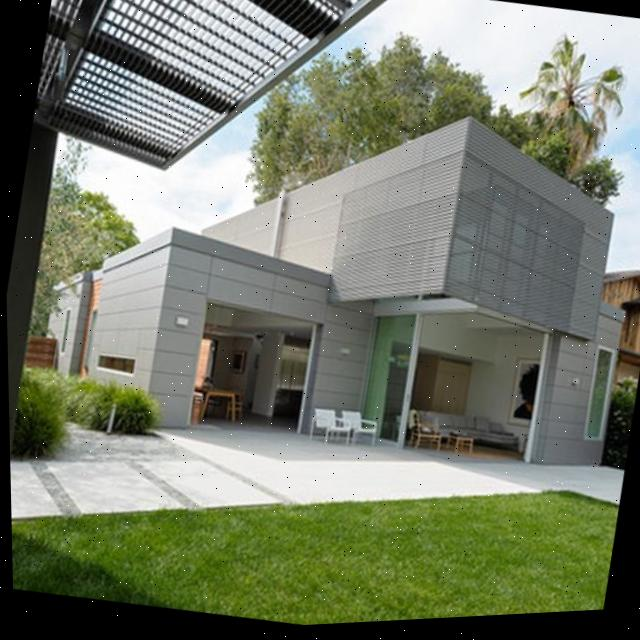building: (31, 38, 640, 500)
